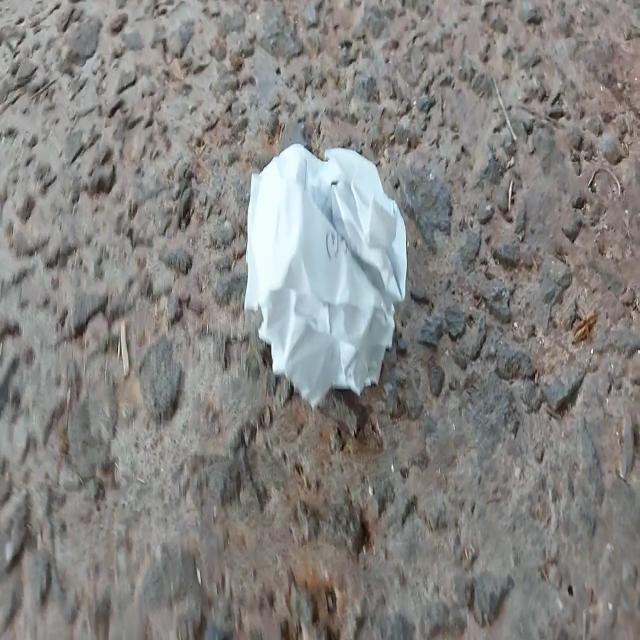Paper: (225, 115, 423, 415)
